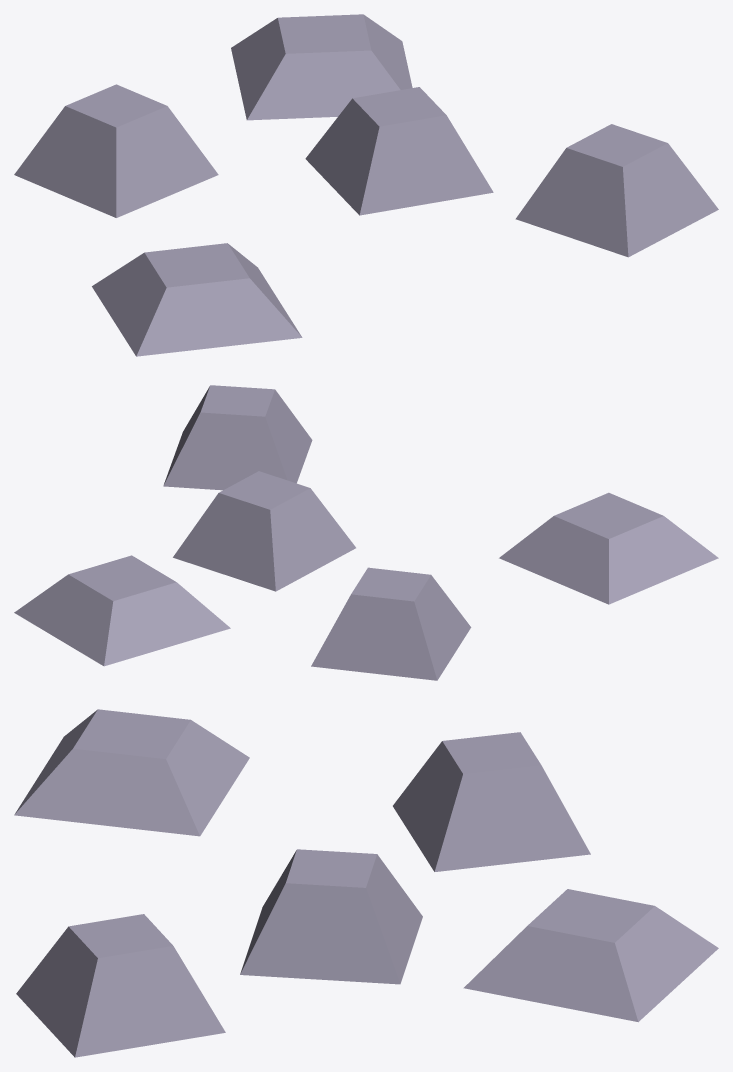
The model's file is rocks_smallA.glb.
3 views of the same model, one above another, from view 1: azimuth 30°, elevation 25°; view 2: azimuth 150°, elevation 25°; view 3: azimuth 270°, elevation 25° (orthographic). The views are drawn at different scales.
Visible parts, largest first — view 1: rocks_smallA; view 2: rocks_smallA; view 3: rocks_smallA.
Part boxes in pixels (x1=…): rocks_smallA: x1=14, y1=14, x2=718, y2=356; rocks_smallA: x1=14, y1=385, x2=718, y2=680; rocks_smallA: x1=14, y1=709, x2=718, y2=1057.
Size of the model in its own units: 0.9372 by 0.1051 by 0.8698.
